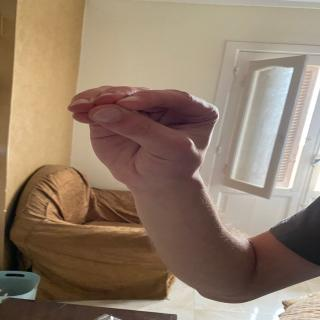HA: (57, 75, 220, 180)
